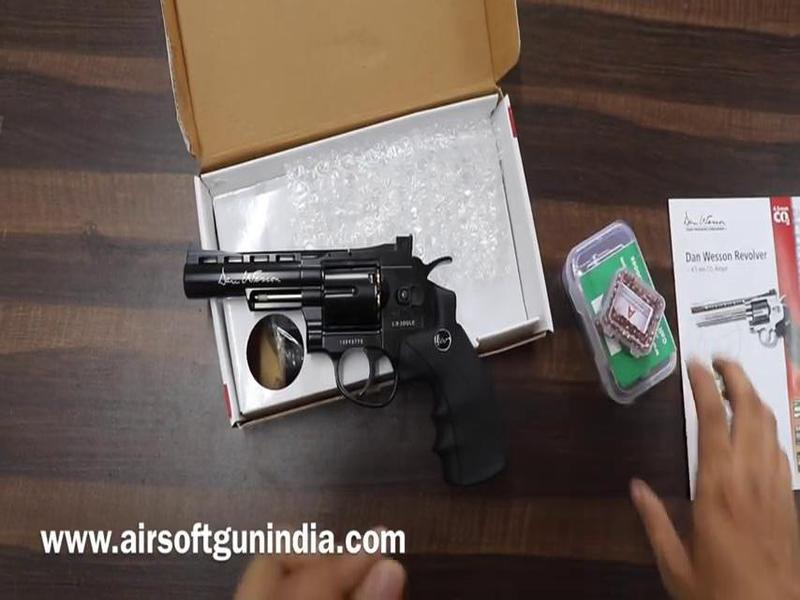Revolver: (170, 230, 504, 421)
